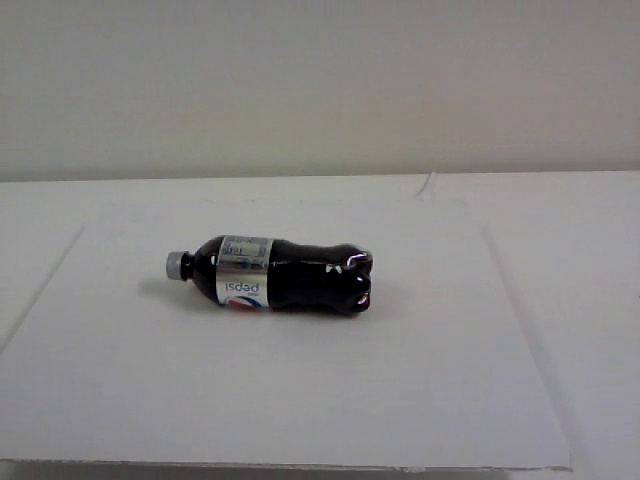botolplastik: (167, 236, 373, 315)
